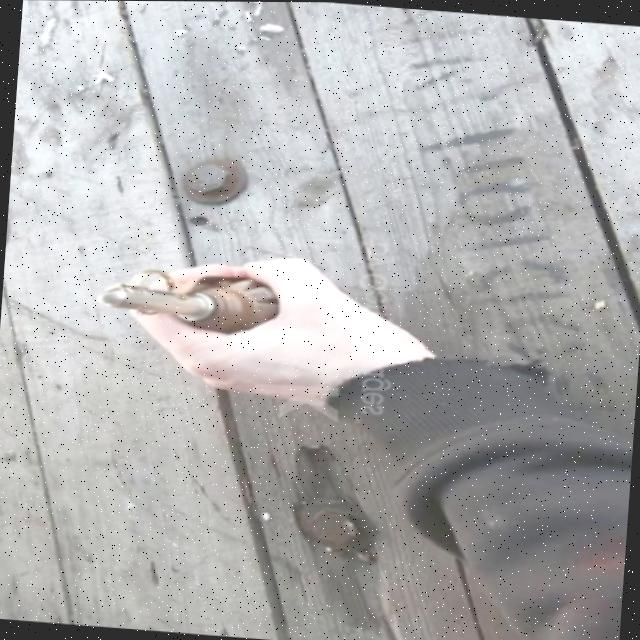grenade: (89, 260, 280, 339)
